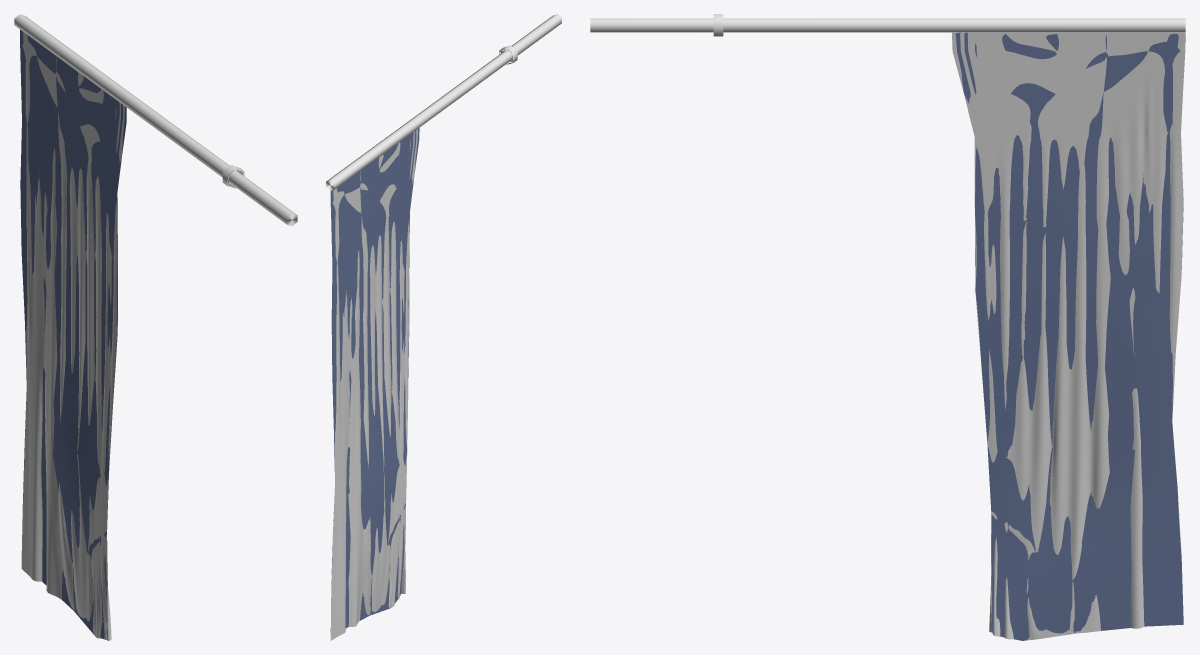
The model's file is Verhot1.fbx.
3 views of the same model, side by side, from view 1: azimuth 30°, elevation 25°; view 2: azimuth 150°, elevation 25°; view 3: azimuth 270°, elevation 25° (orthographic). The views are drawn at different scales.
Parts seen in each view (by area): view 1: verho-hp, verho-lp, VerhoTanko; view 2: verho-hp, verho-lp, VerhoTanko; view 3: verho-lp, verho-hp, VerhoTanko.
Part boxes in pixels (x1=…): verho-hp: x1=20, y1=32, x2=124, y2=640; verho-lp: x1=20, y1=29, x2=126, y2=639; VerhoTanko: x1=14, y1=14, x2=297, y2=226; verho-hp: x1=330, y1=129, x2=417, y2=640; verho-lp: x1=330, y1=128, x2=419, y2=631; VerhoTanko: x1=326, y1=14, x2=561, y2=190; verho-lp: x1=955, y1=32, x2=1185, y2=640; verho-hp: x1=952, y1=32, x2=1185, y2=640; VerhoTanko: x1=590, y1=14, x2=1185, y2=36.
Size of the model in its own units: 5.89 by 186 by 160.
